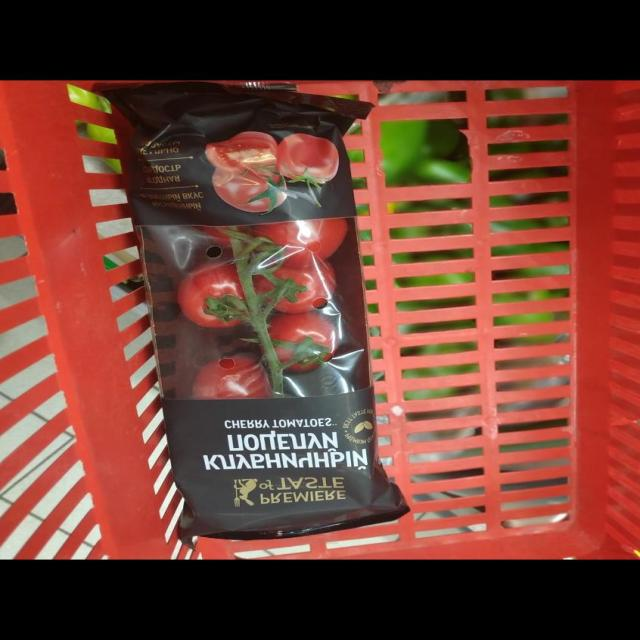tomato: (133, 185, 445, 555), (126, 200, 395, 597), (130, 146, 397, 448), (127, 115, 403, 359), (94, 161, 299, 489), (106, 116, 327, 363)
